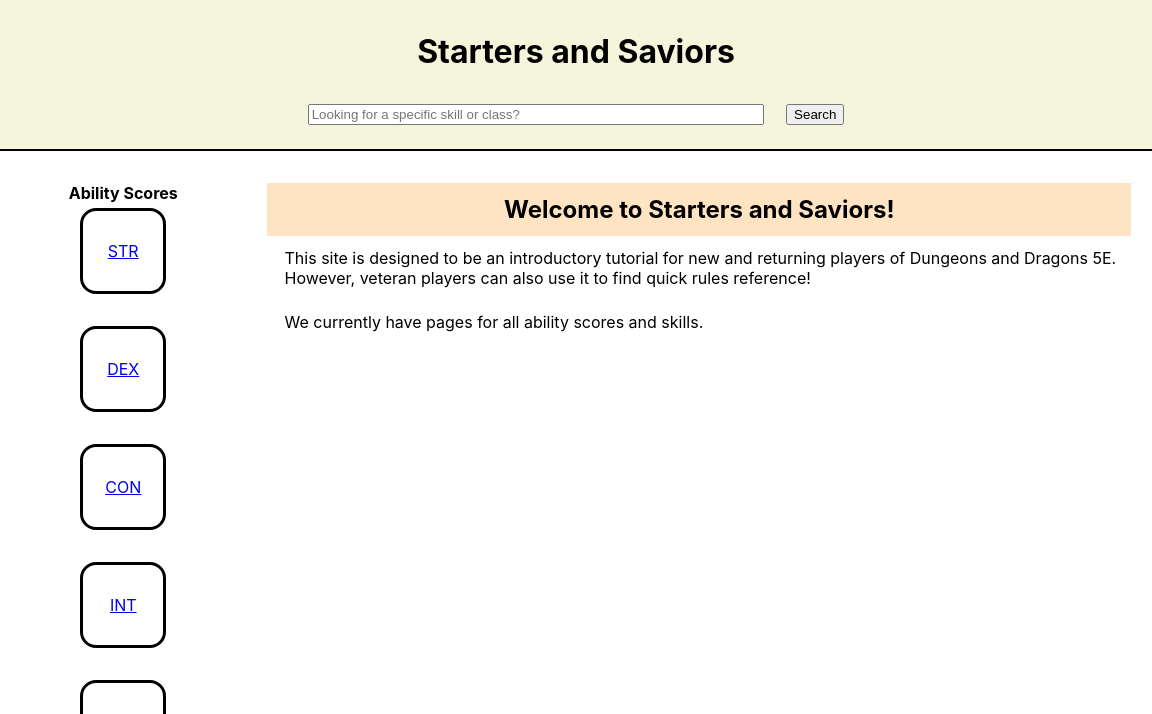
Scenario: Homepage functionality › Should show an error when there is no page for the inputted value
In the field named "search-bar": (536, 115) x1=308 y1=104 x2=764 y2=125, type "nonsense"
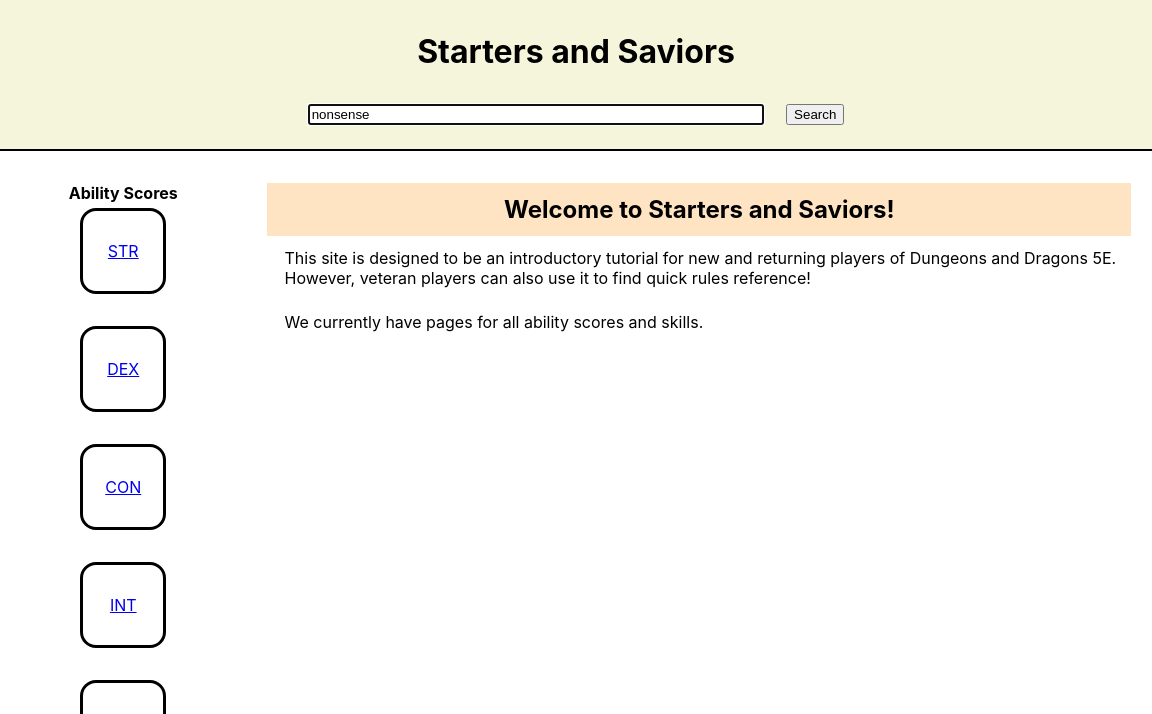
Click the button "Search": (815, 115) x1=786 y1=104 x2=844 y2=125
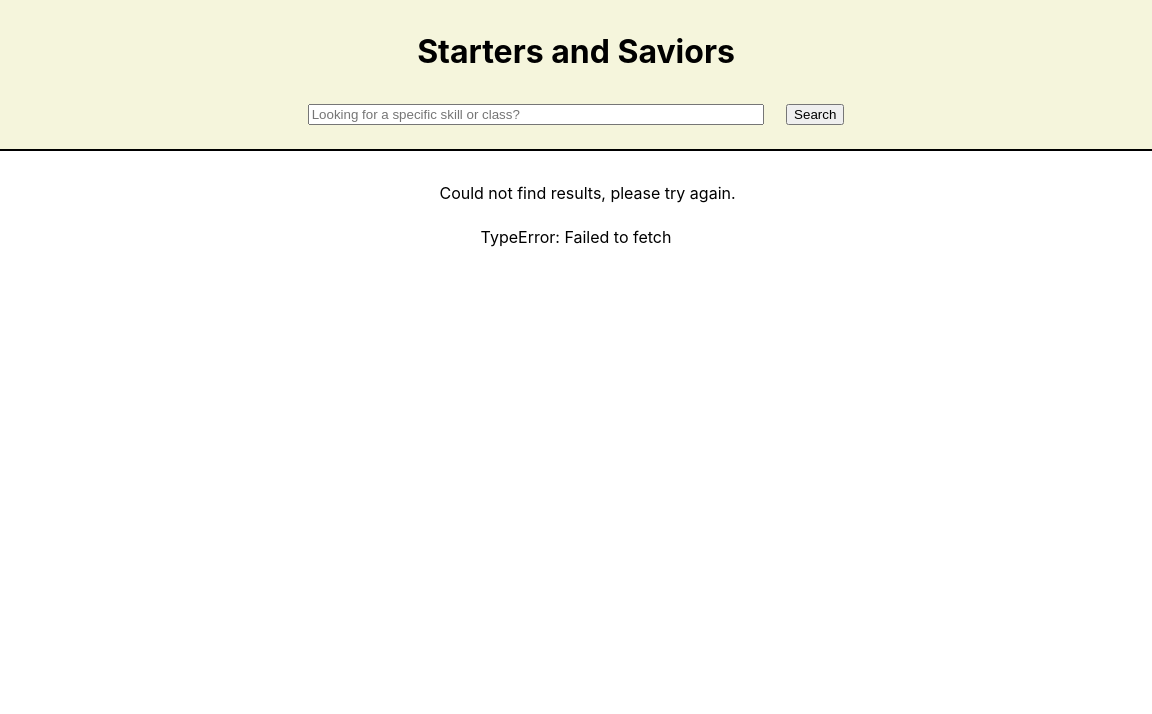
Check: the text with class "error-page" reads "Could not find results, please try again.", box x1=439 y1=183 x2=735 y2=203
